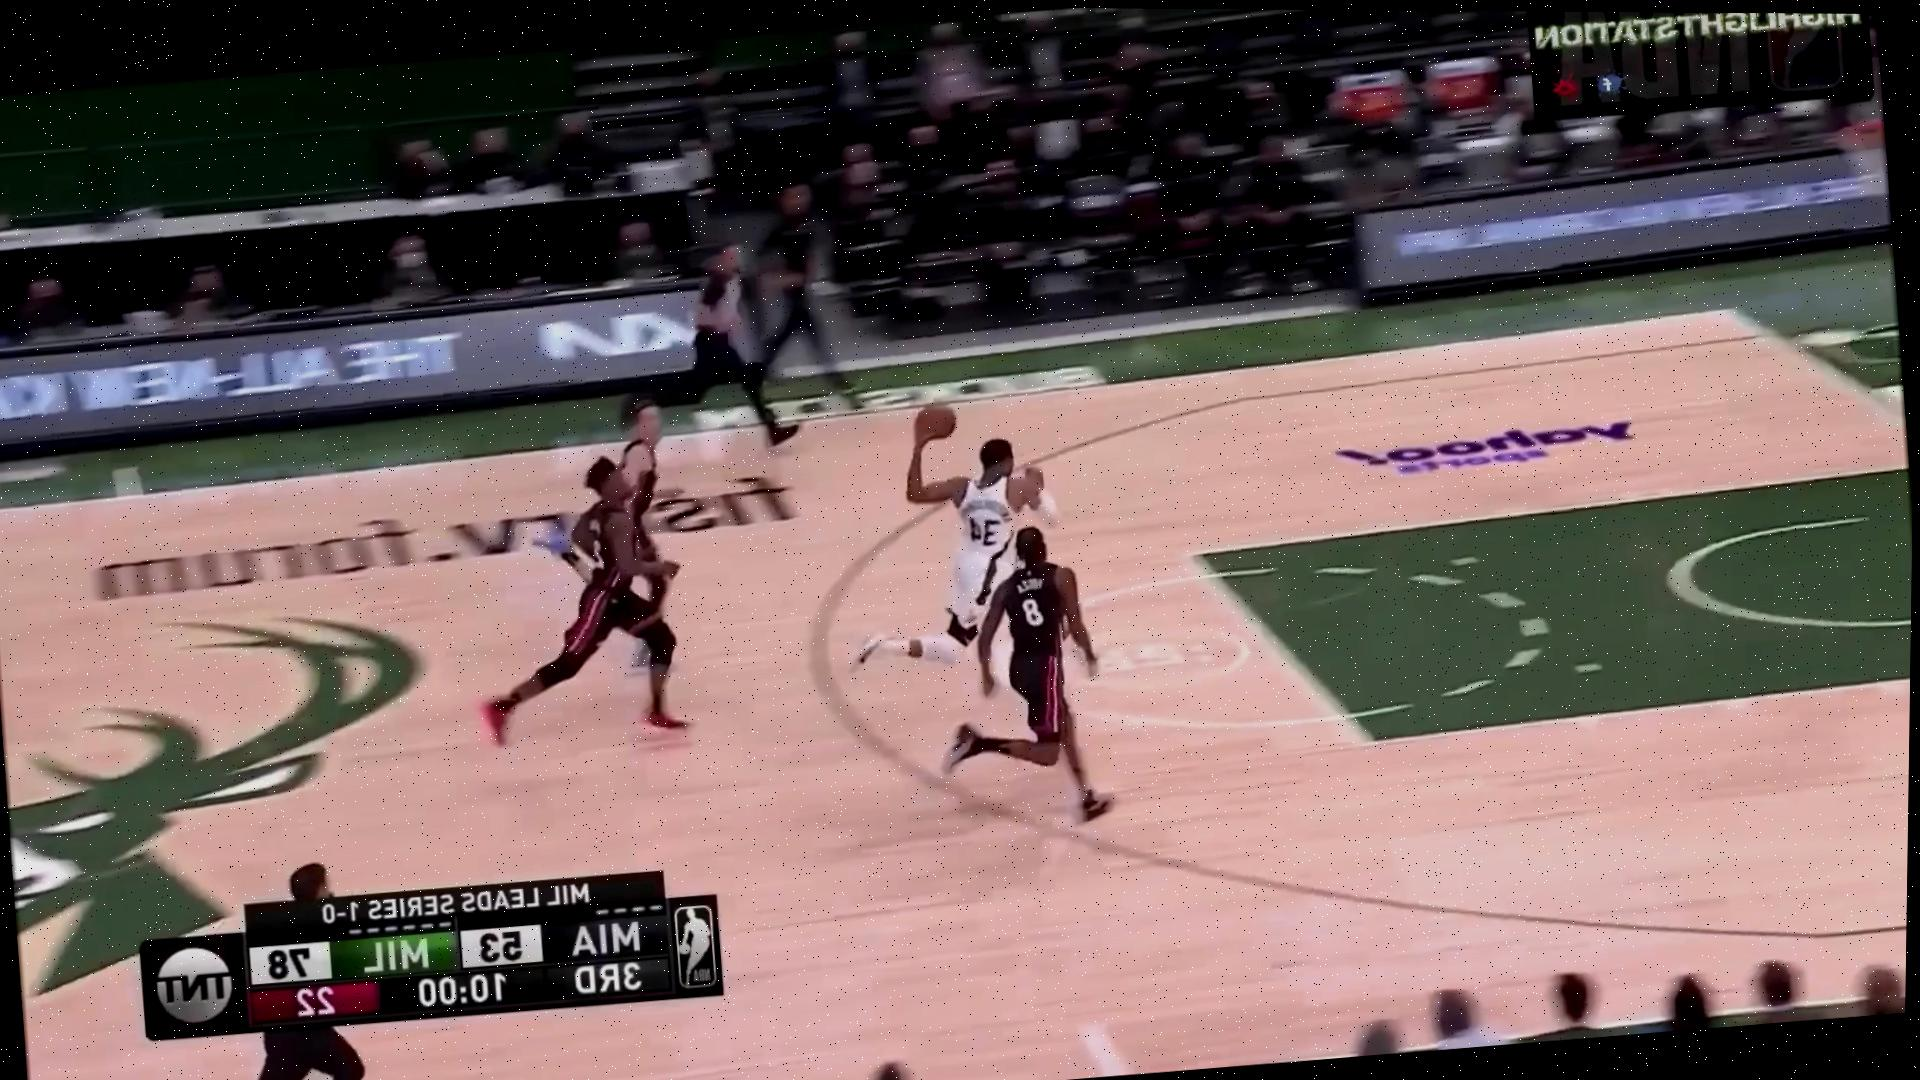no_foul: (866, 404, 1160, 865)
